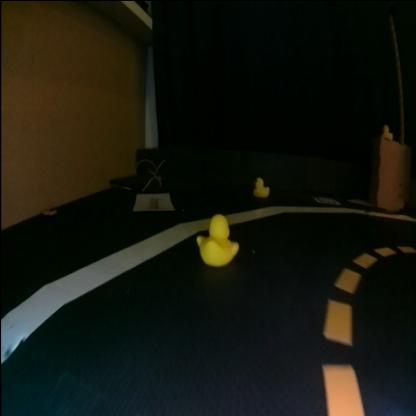Duckie: (196, 211, 238, 264), (254, 174, 271, 196), (382, 122, 393, 138)
QR code: (312, 194, 340, 203)
